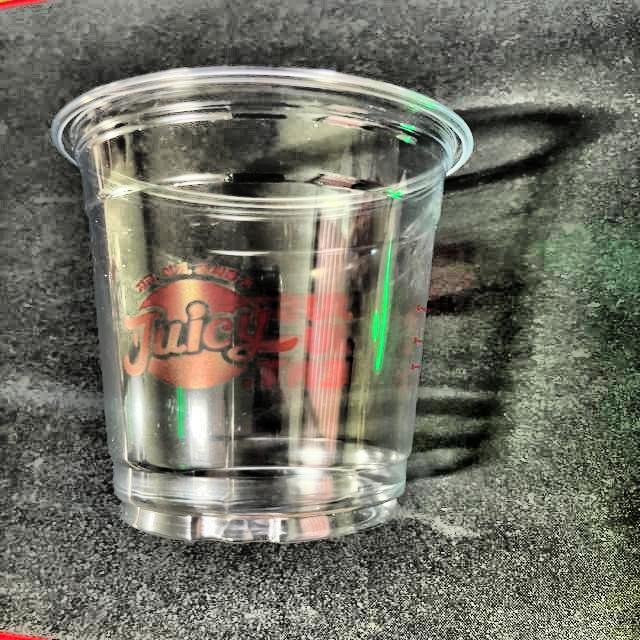plastic cup: (49, 60, 471, 547)
